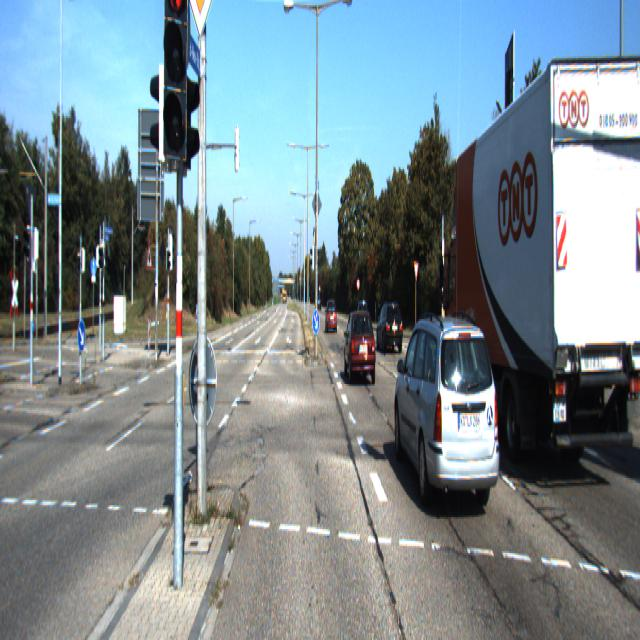Car: (440, 46, 640, 502), (393, 311, 504, 529), (344, 308, 376, 387), (376, 300, 404, 355), (325, 300, 337, 334)
